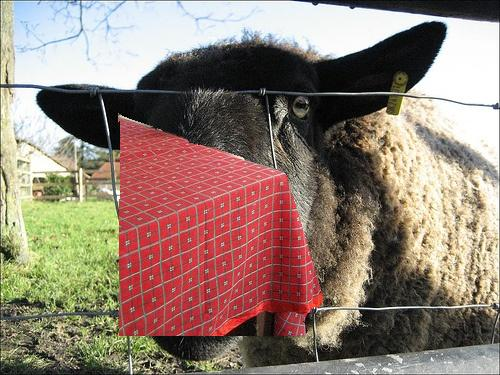tampered: (119, 114, 323, 336)
